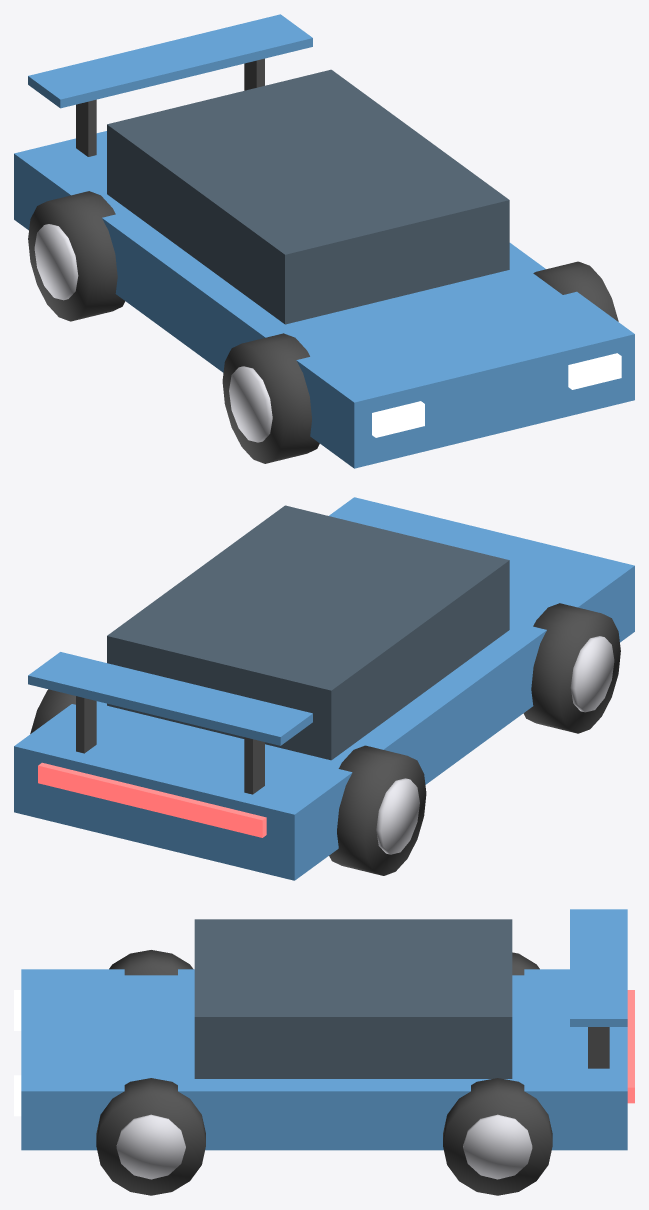
Rendered from 52f5795a-a6b6-4dac-84e4-32a2cd9eba7e.glb.
3 renders of one model, top to bottom at view 1: azimuth 30°, elevation 25°; view 2: azimuth 150°, elevation 25°; view 3: azimuth 270°, elevation 25°, orthographic. The views are drawn at different scales.
Visible parts, largest first — view 1: GeneratedObject3D; view 2: GeneratedObject3D; view 3: GeneratedObject3D.
Boxes of the visible parts, x1,y1,x2,y2 form: GeneratedObject3D: (14,14,634,468); GeneratedObject3D: (14,497,634,880); GeneratedObject3D: (14,909,634,1195).
Bounding box in the file's own units: 2.47 × 1.21 × 4.3.
